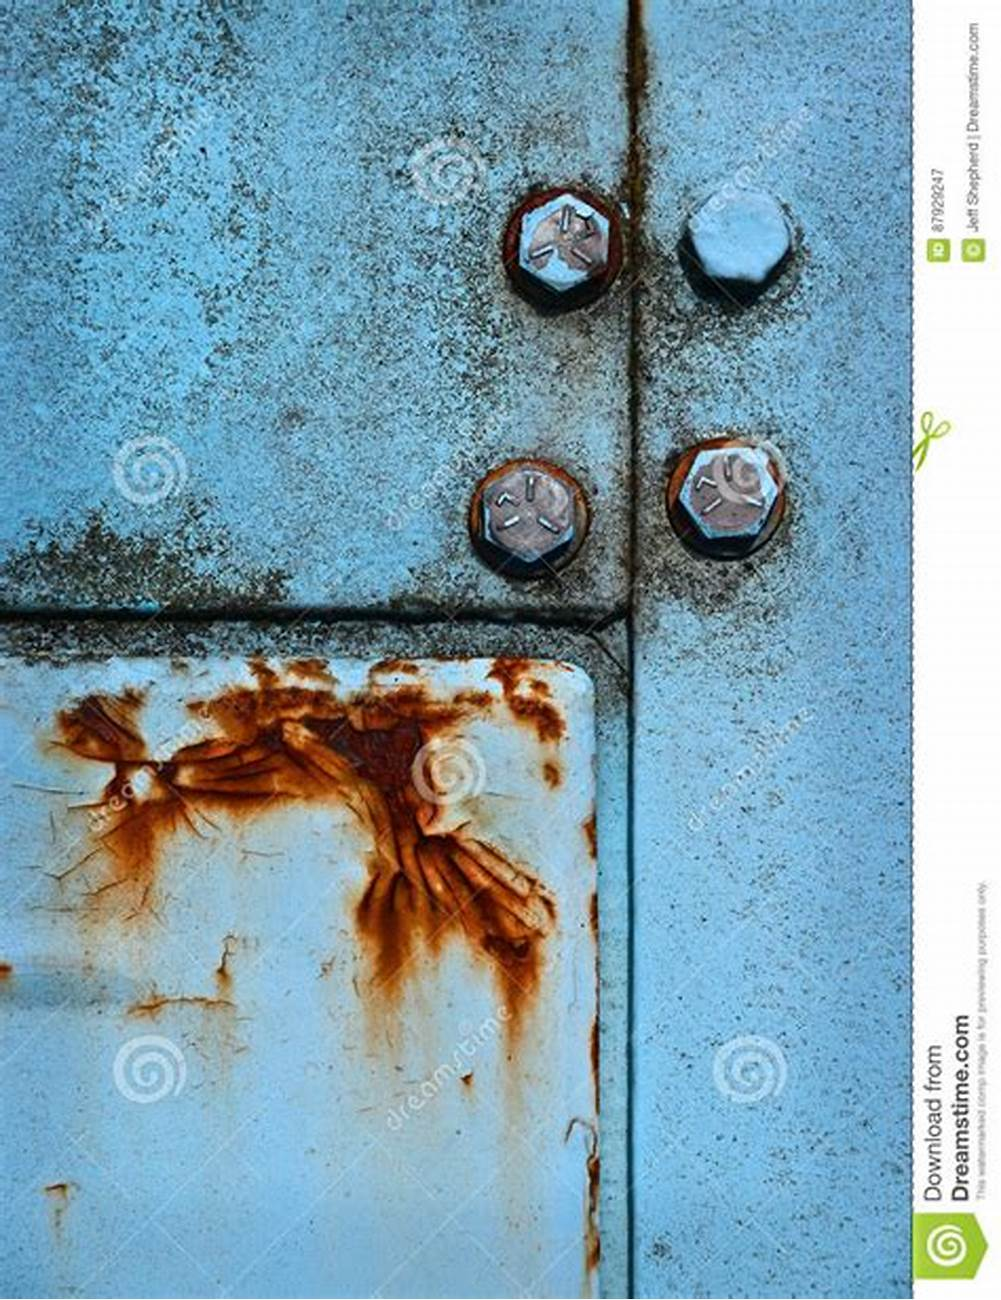bolt_a: (685, 184, 797, 293), (511, 188, 615, 297), (675, 442, 785, 545), (474, 462, 578, 566)
